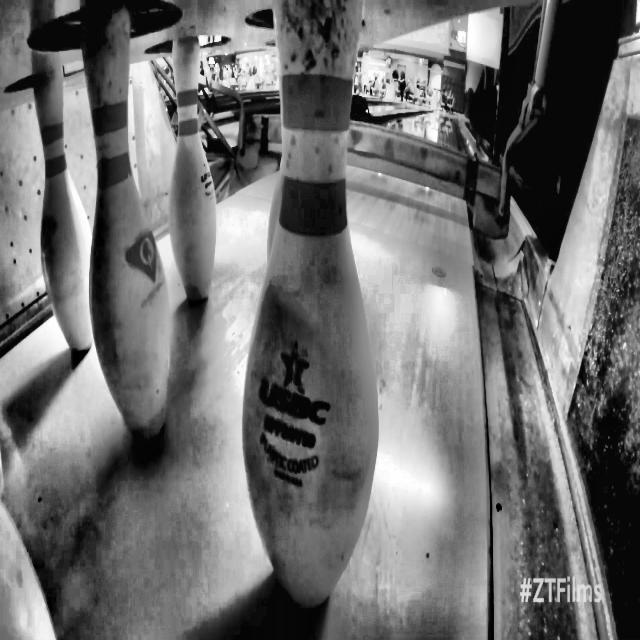bowling-pins: (242, 0, 379, 606), (82, 1, 169, 437), (169, 36, 216, 305)
